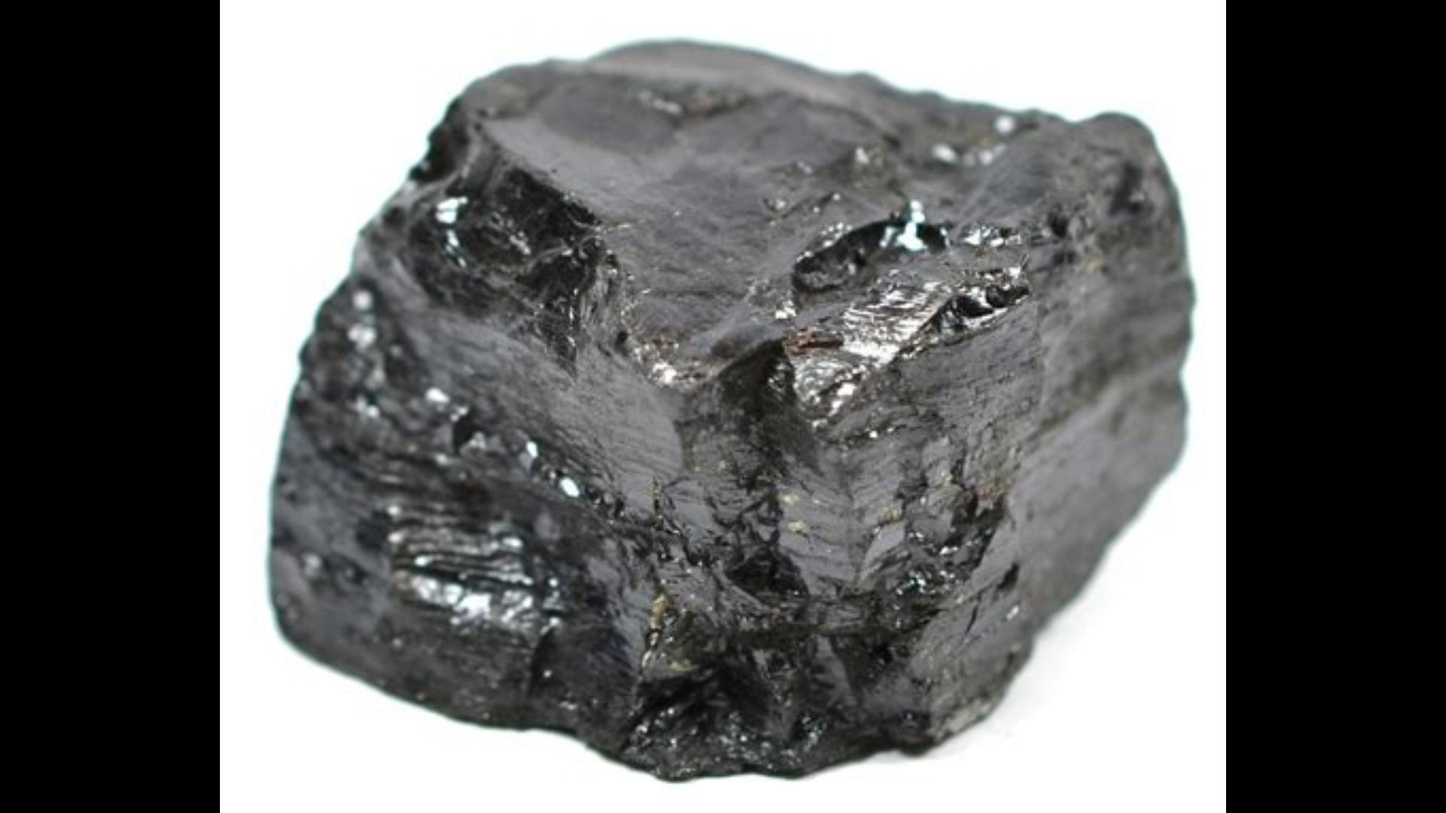rock: (269, 42, 1190, 775)
